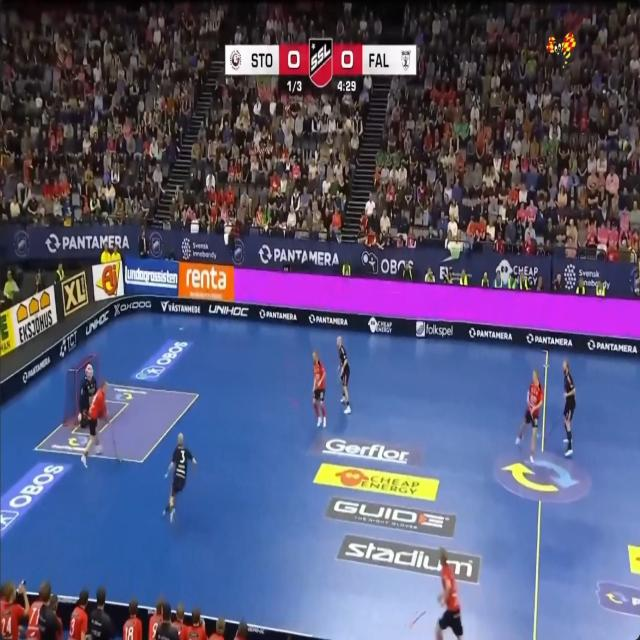player: (164, 434, 196, 521), (515, 369, 544, 463), (435, 548, 462, 639), (81, 380, 108, 466), (0, 583, 29, 639), (562, 360, 576, 456), (78, 363, 97, 428), (69, 588, 89, 639), (337, 337, 350, 414), (313, 350, 326, 426), (122, 599, 142, 639)
stick: (109, 428, 121, 461), (409, 610, 425, 628)
